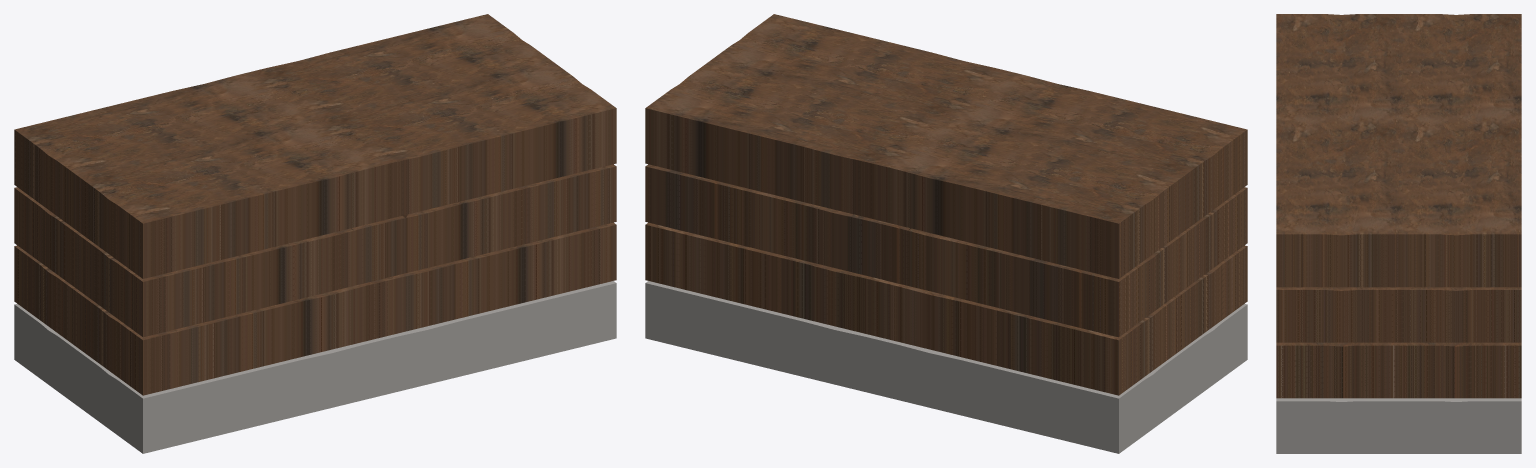
File: geologic-time.glb
3 renders of one model, left to right at view 1: azimuth 30°, elevation 25°; view 2: azimuth 150°, elevation 25°; view 3: azimuth 270°, elevation 25°, orthographic. The views are drawn at different scales.
Parts seen in each view (by area): view 1: Time_Cenozoic, Time_Precambrian, Time_Paleozoic, Time_Mesozoic; view 2: Time_Cenozoic, Time_Precambrian, Time_Paleozoic, Time_Mesozoic; view 3: Time_Cenozoic, Time_Paleozoic, Time_Precambrian, Time_Mesozoic.
Boxes of the visible parts, left/top/right/bottom form: Time_Cenozoic: left=14, top=14, right=616, bottom=278; Time_Precambrian: left=14, top=281, right=616, bottom=453; Time_Paleozoic: left=14, top=222, right=616, bottom=395; Time_Mesozoic: left=14, top=164, right=616, bottom=337; Time_Cenozoic: left=645, top=14, right=1247, bottom=278; Time_Precambrian: left=645, top=281, right=1247, bottom=453; Time_Paleozoic: left=645, top=222, right=1247, bottom=395; Time_Mesozoic: left=645, top=164, right=1247, bottom=337; Time_Cenozoic: left=1276, top=14, right=1521, bottom=287; Time_Paleozoic: left=1276, top=342, right=1521, bottom=398; Time_Precambrian: left=1276, top=398, right=1521, bottom=453; Time_Mesozoic: left=1276, top=287, right=1521, bottom=342.
Size of the model in its own units: 3.4 by 1.58 by 1.6.
Materials: 4 (3 with a texture image).
